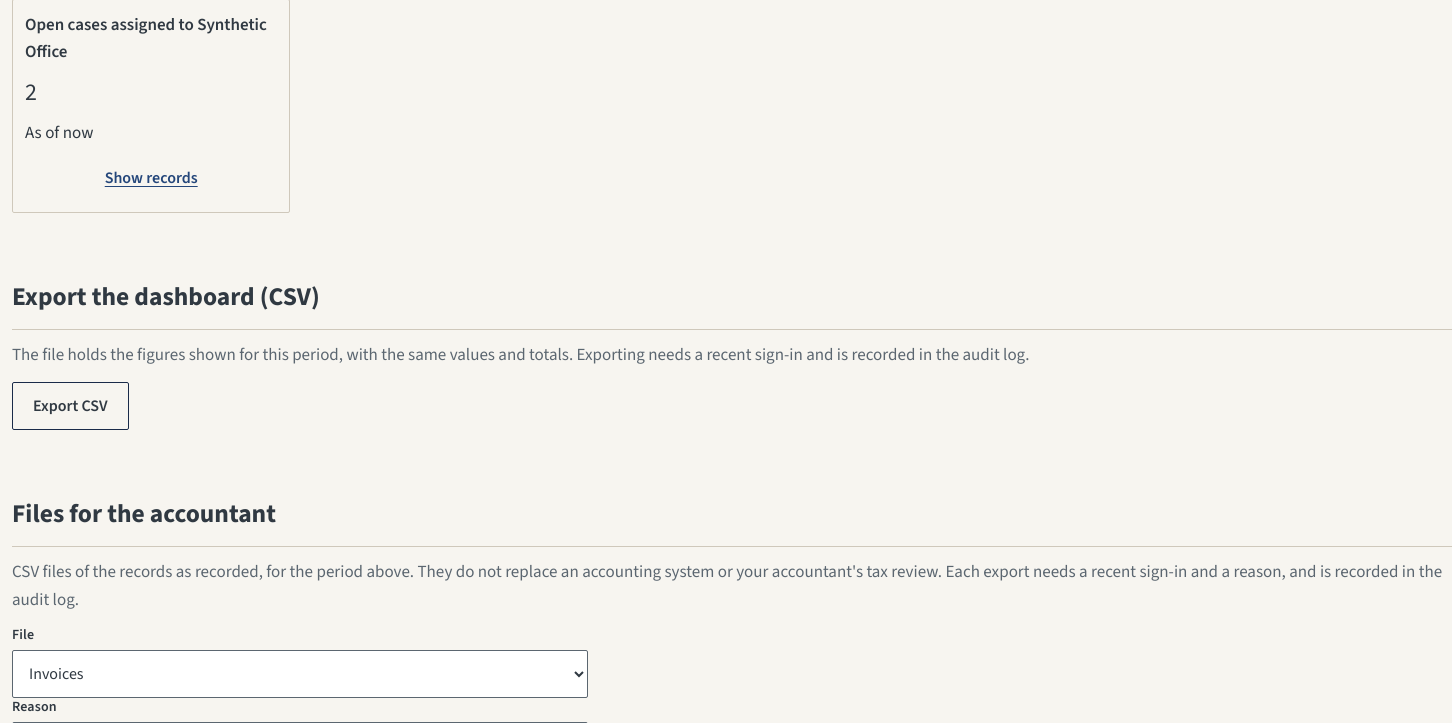
Test: [HH-FIN-18][T73][HH-DATA-10] the Owner Dashboard › [T64] the CSV asks for the password when the sign-in is not recent, then saves the file
(page scrolled)
Click the button "Export CSV".
click(70, 406)  # box [12,382,128,430]
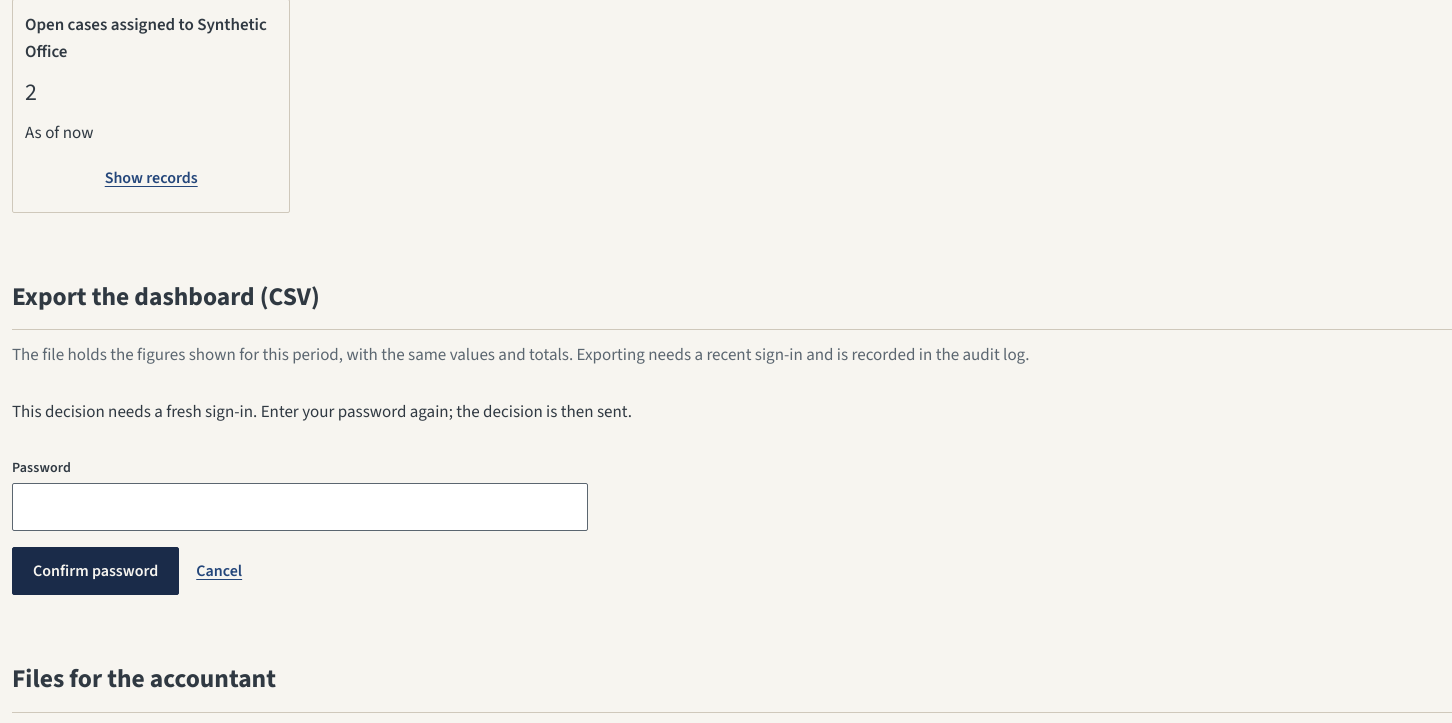
Type "synthetic password" into the password field labelled "Password".
click(300, 507); type("synthetic password")  # box [12,483,588,531]
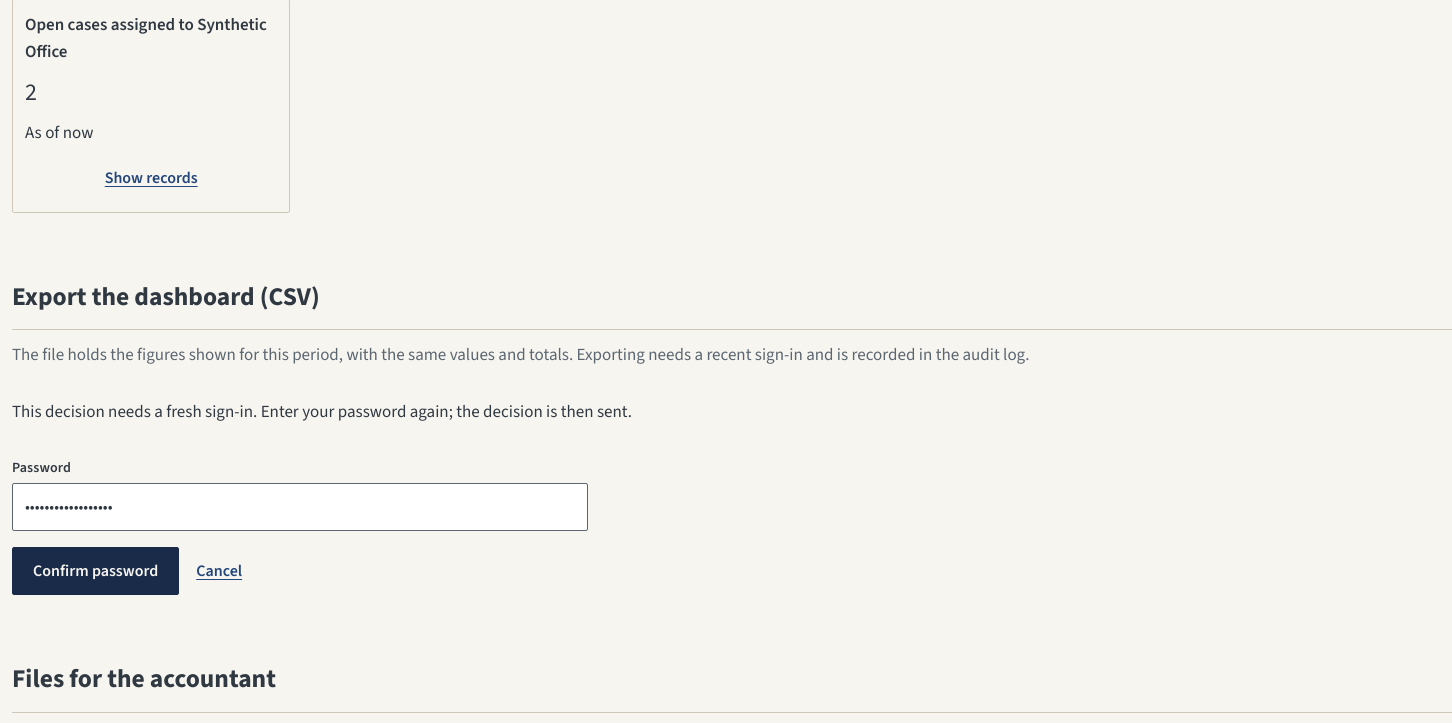
Submit the form with test id "owner-reauth", box [12,400,632,595]
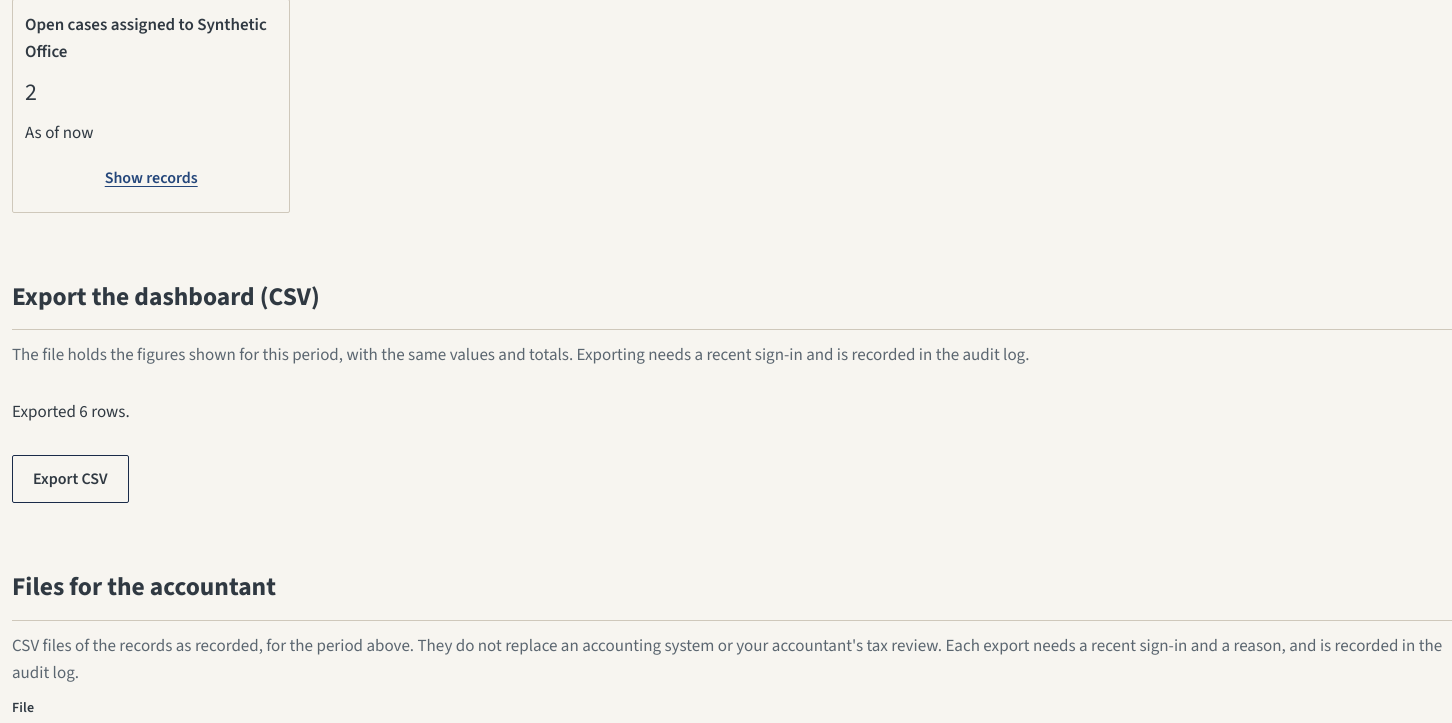
Check: the text "Exported 6 rows." is shown, box [12,400,130,424]
